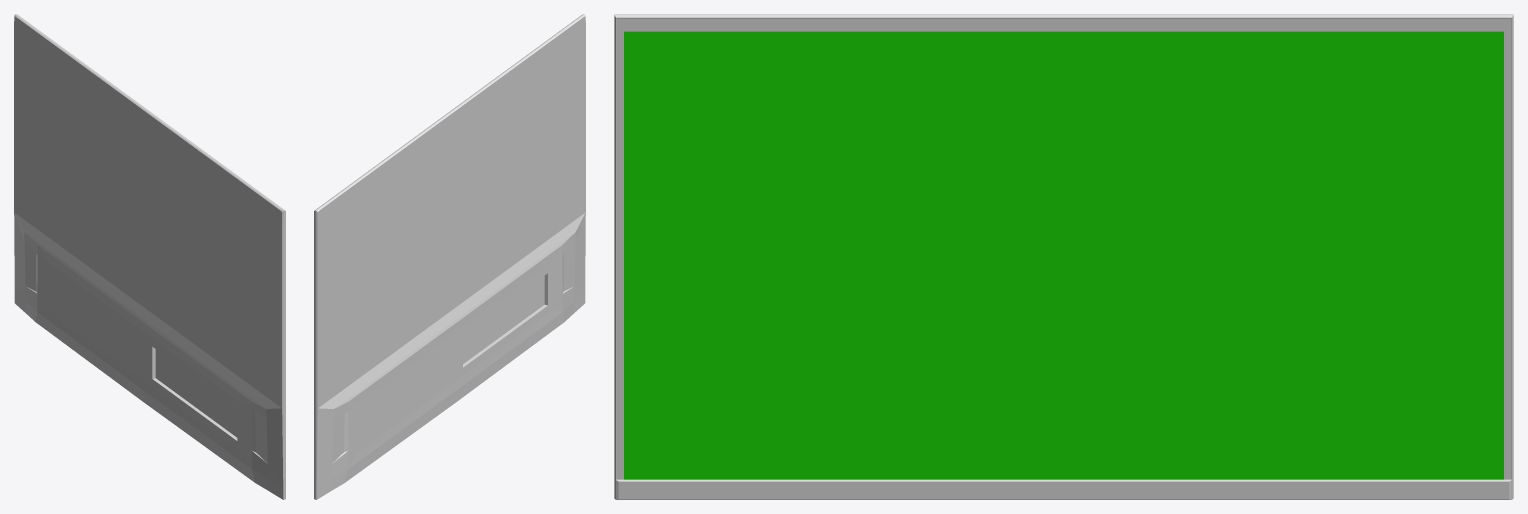
File: Pantalla_Low_Adaptada.fbx
The picture shows the model from 3 angles, left to right: view 1: azimuth 30°, elevation 25°; view 2: azimuth 150°, elevation 25°; view 3: azimuth 270°, elevation 25°; orthographic projection. The views are drawn at different scales.
Visible parts, largest first — view 1: polySurface1; view 2: polySurface1; view 3: polySurface2, polySurface1.
Boxes of the visible parts, left/top/right/bottom form: polySurface1: left=14, top=14, right=285, bottom=499; polySurface1: left=314, top=14, right=585, bottom=499; polySurface2: left=624, top=31, right=1503, bottom=479; polySurface1: left=614, top=14, right=1513, bottom=499.
Size of the model in its own units: 1.07 by 36.29 by 61.13.
